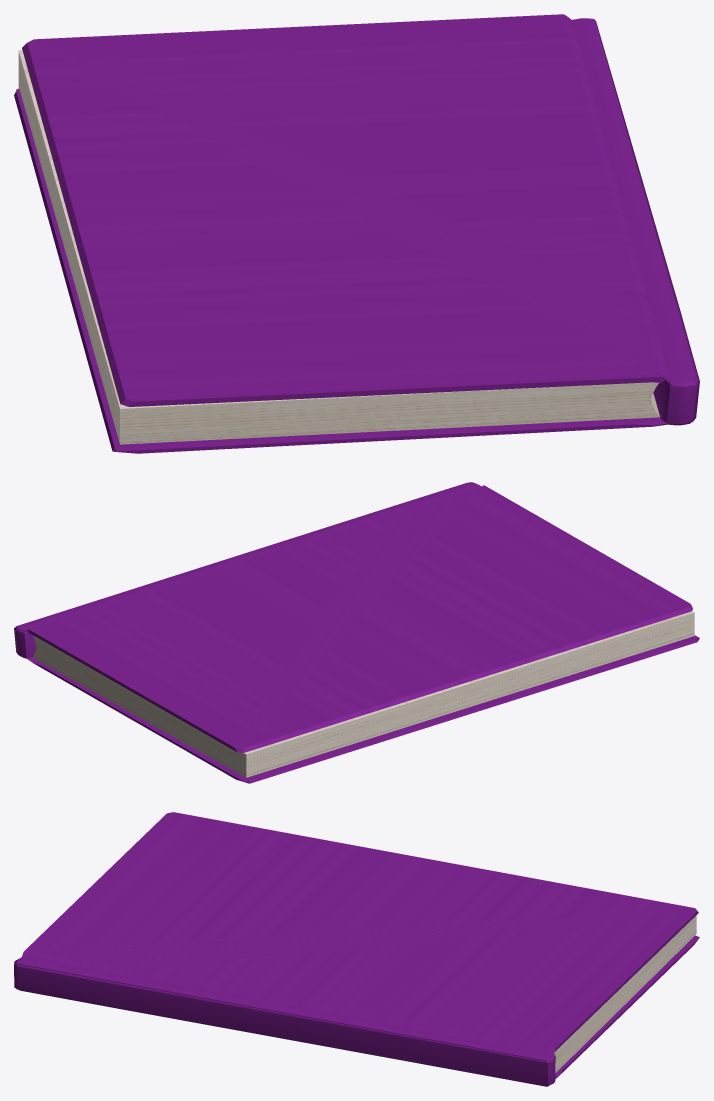
Rendered from Books_Purple.fbx.
3 views of the same model, one above another, from view 1: azimuth 30°, elevation 25°; view 2: azimuth 150°, elevation 25°; view 3: azimuth 270°, elevation 25° (orthographic). The views are drawn at different scales.
Parts seen in each view (by area): view 1: pCube3; view 2: pCube3; view 3: pCube3.
Boxes of the visible parts, left/top/right/bottom form: pCube3: left=14, top=14, right=699, bottom=453; pCube3: left=14, top=482, right=699, bottom=783; pCube3: left=14, top=812, right=699, bottom=1086.
Bounding box in the file's own units: 5.18 × 0.3355 × 6.05.
1 material, 1 textured.
